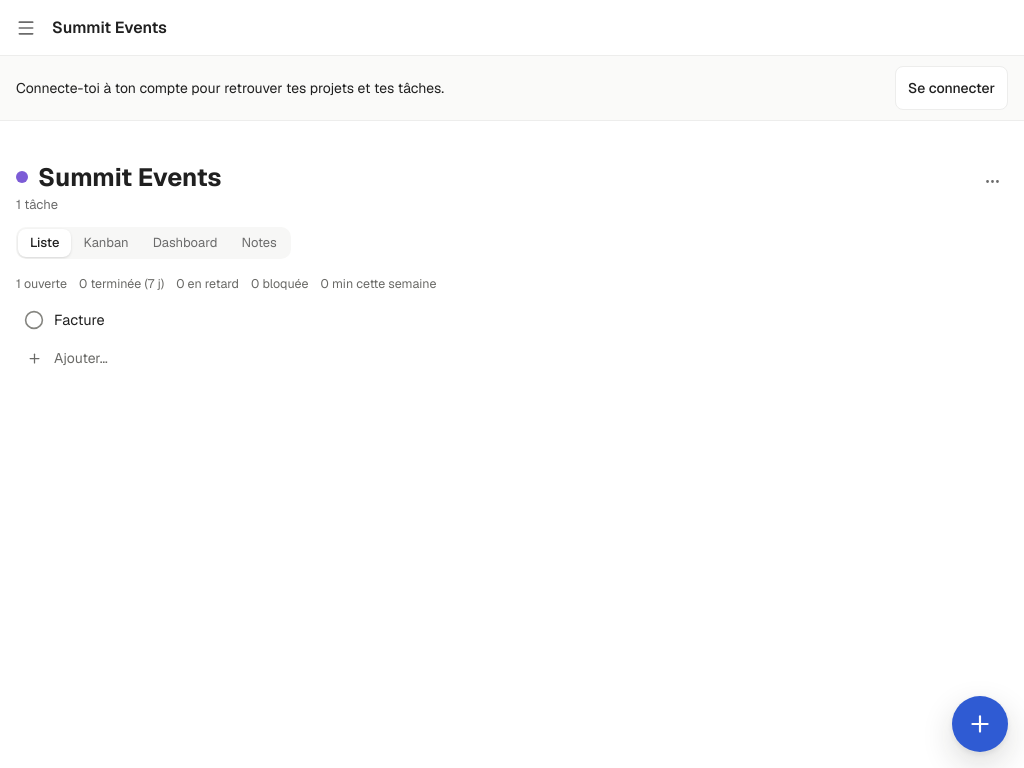
Kanban, Dashboard and Portfolio on the web › phone dashboard: figures two by two, no « attend ta réponse »
Click the tab "Dashboard": (185, 242) x1=141 y1=228 x2=229 y2=256
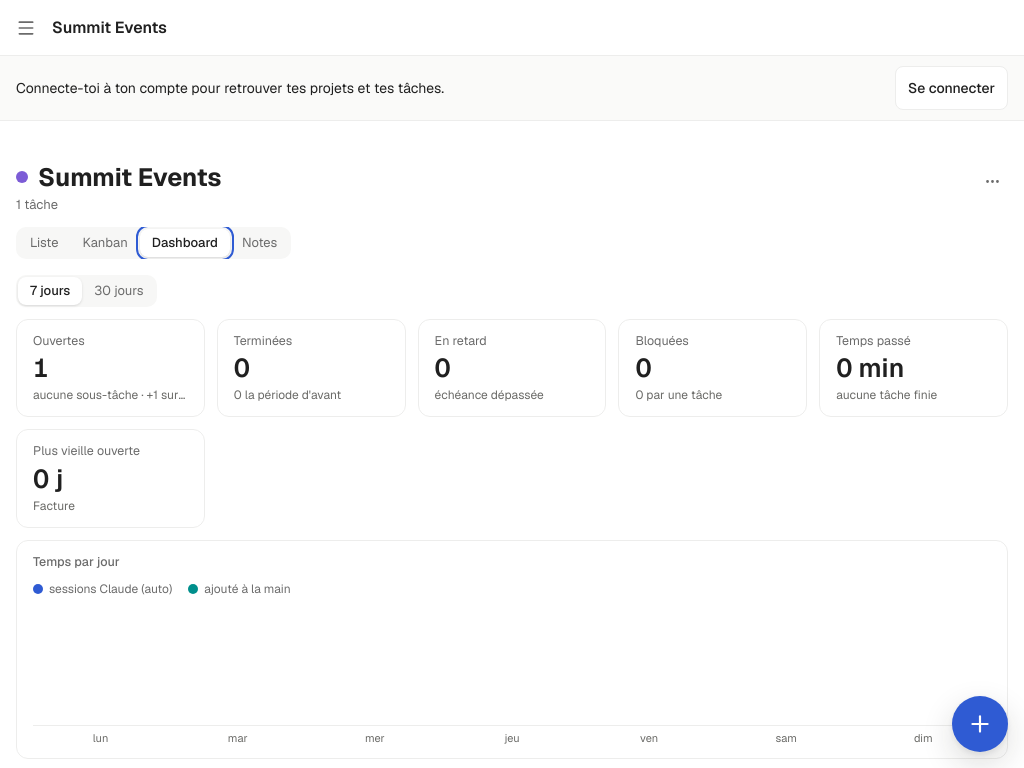
Expected: the text "Bloquées" is shown, x1=635 y1=332 x2=689 y2=348
